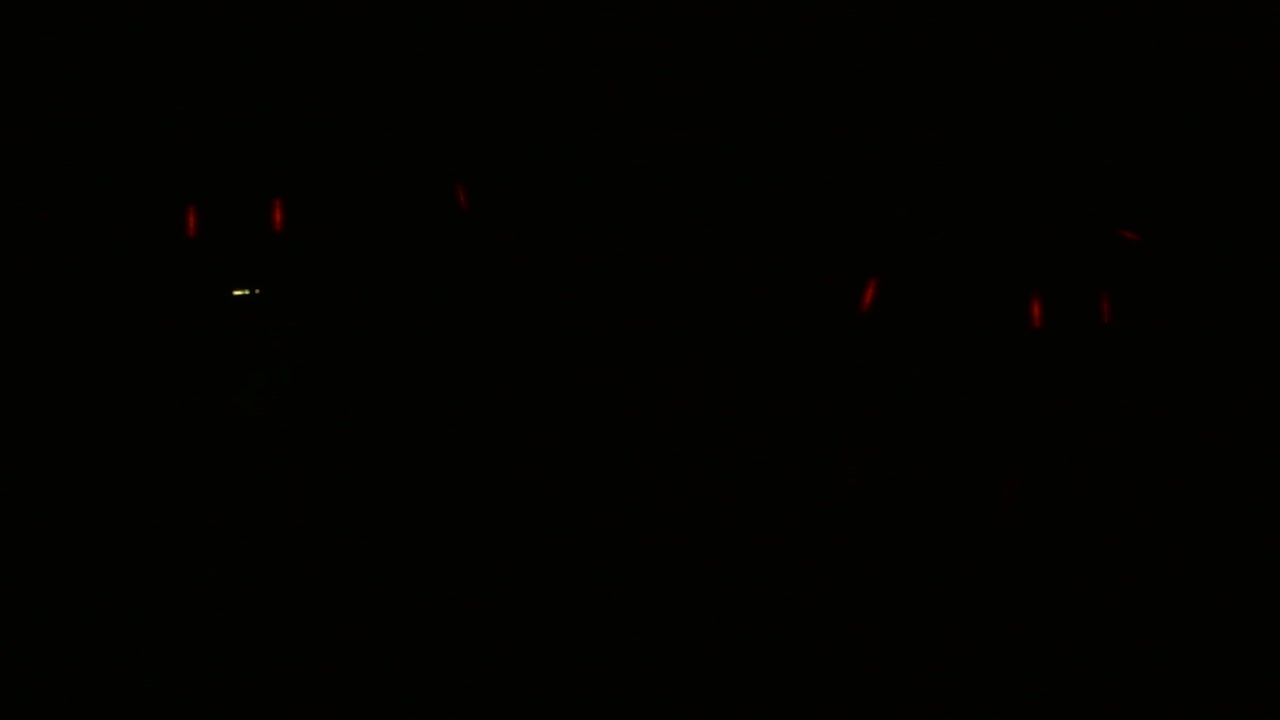pair1: (185, 194, 287, 241), (1029, 297, 1112, 331)
